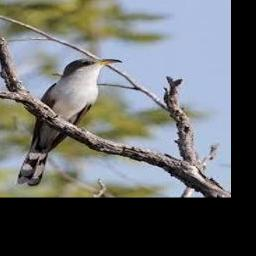Cuckoo: (17, 58, 122, 186)
